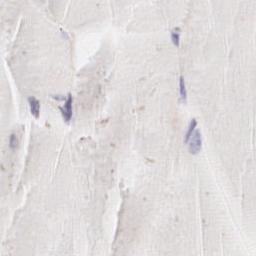nucleus: (183, 119, 196, 143), (190, 129, 202, 154), (28, 96, 40, 118), (59, 107, 70, 123), (64, 94, 73, 110), (180, 77, 186, 100), (171, 31, 180, 44), (8, 134, 17, 147)
